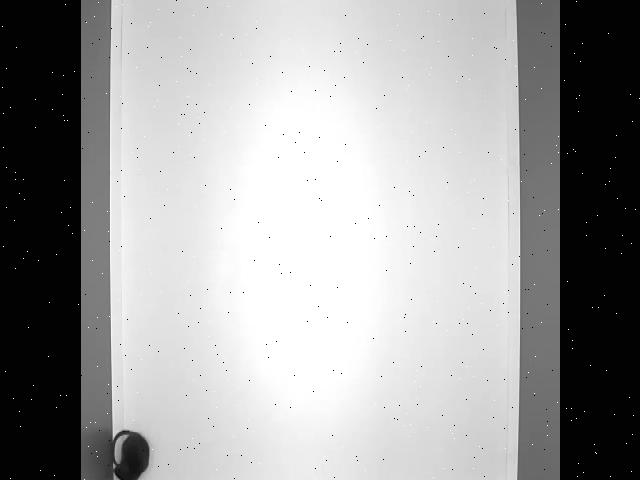Tikus: (112, 425, 152, 480)
